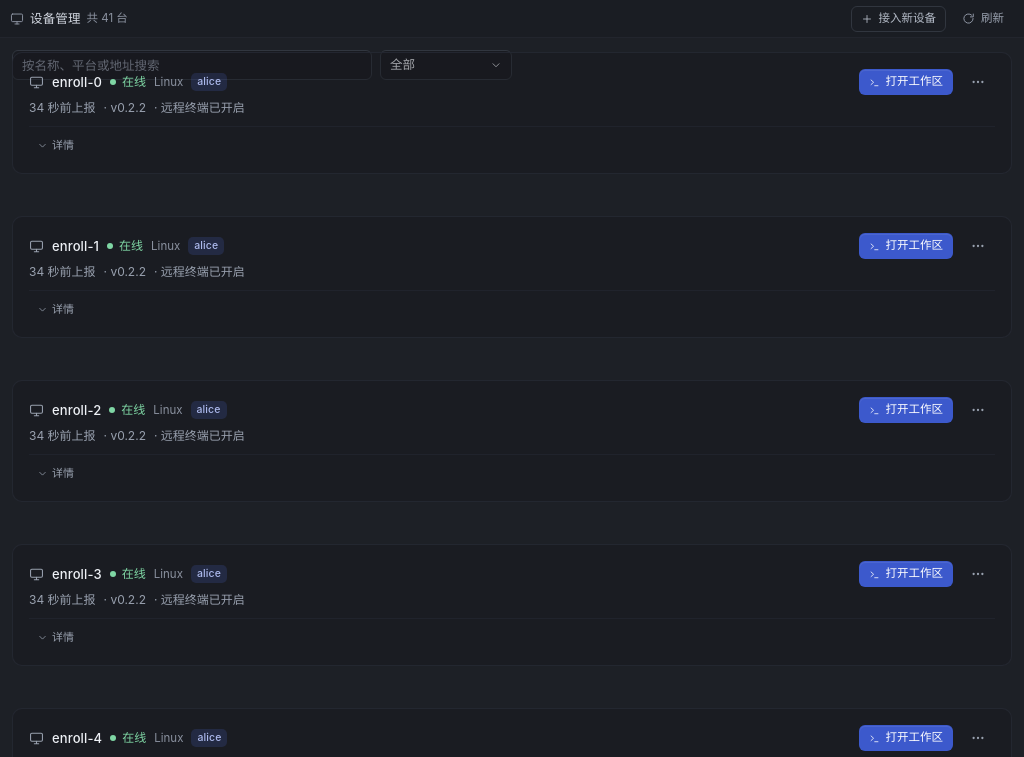
Test: Device management view - device list and metrics › re-measures the virtual offset when the enrollment panel opens and closes without a resize
Check: the element that starts with "enroll-0" is shown, box [12,52,1012,174]
Click the button "接入新设备" at (898, 18), box [850,6,946,32]
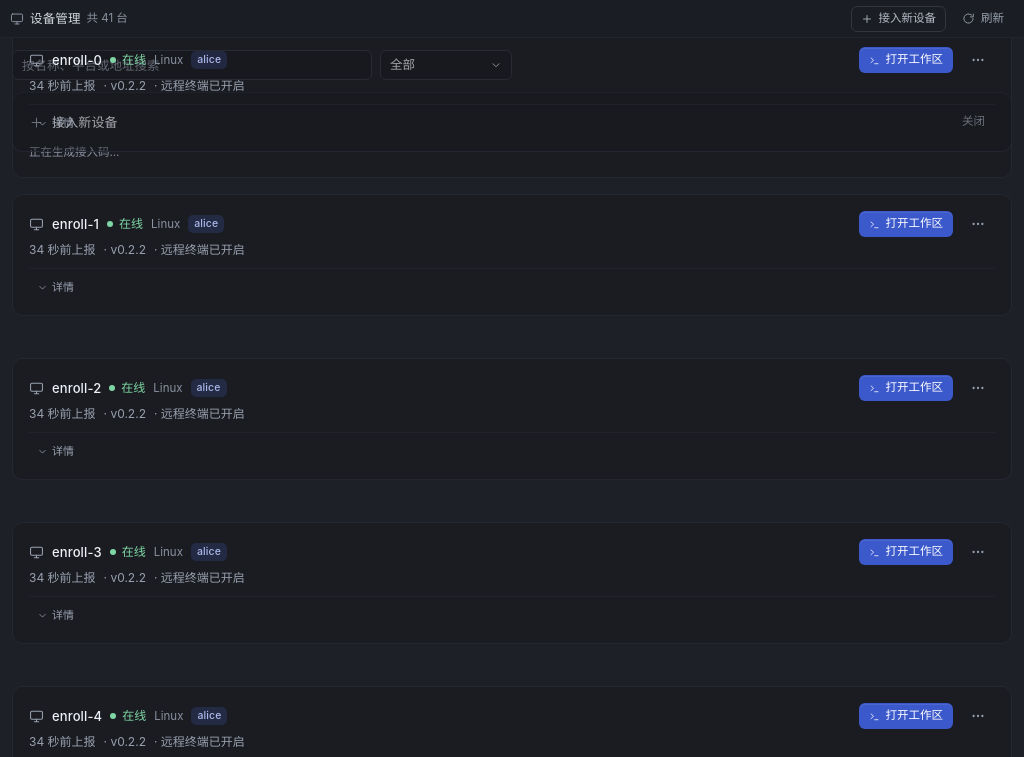
Check: the heading with id "enroll-panel-title" reads "接入新设备", box [52,114,118,130]
Click the button "接入新设备" at (898, 18), box [850,6,946,32]
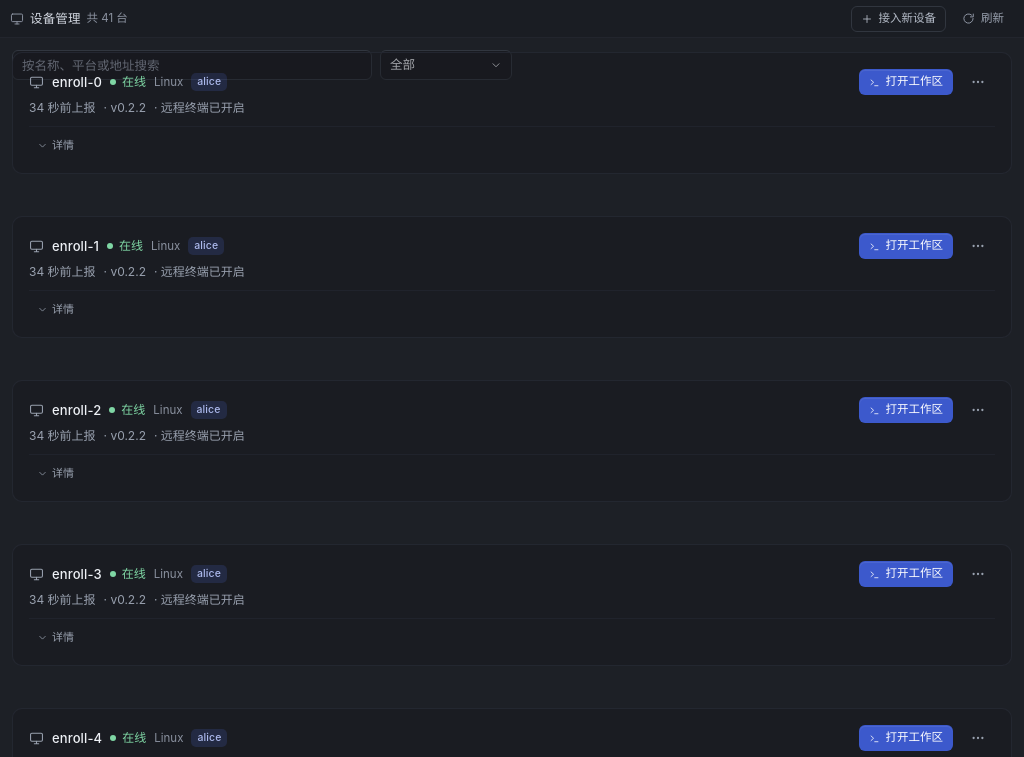
Check: the heading with id "enroll-panel-title" is gone
